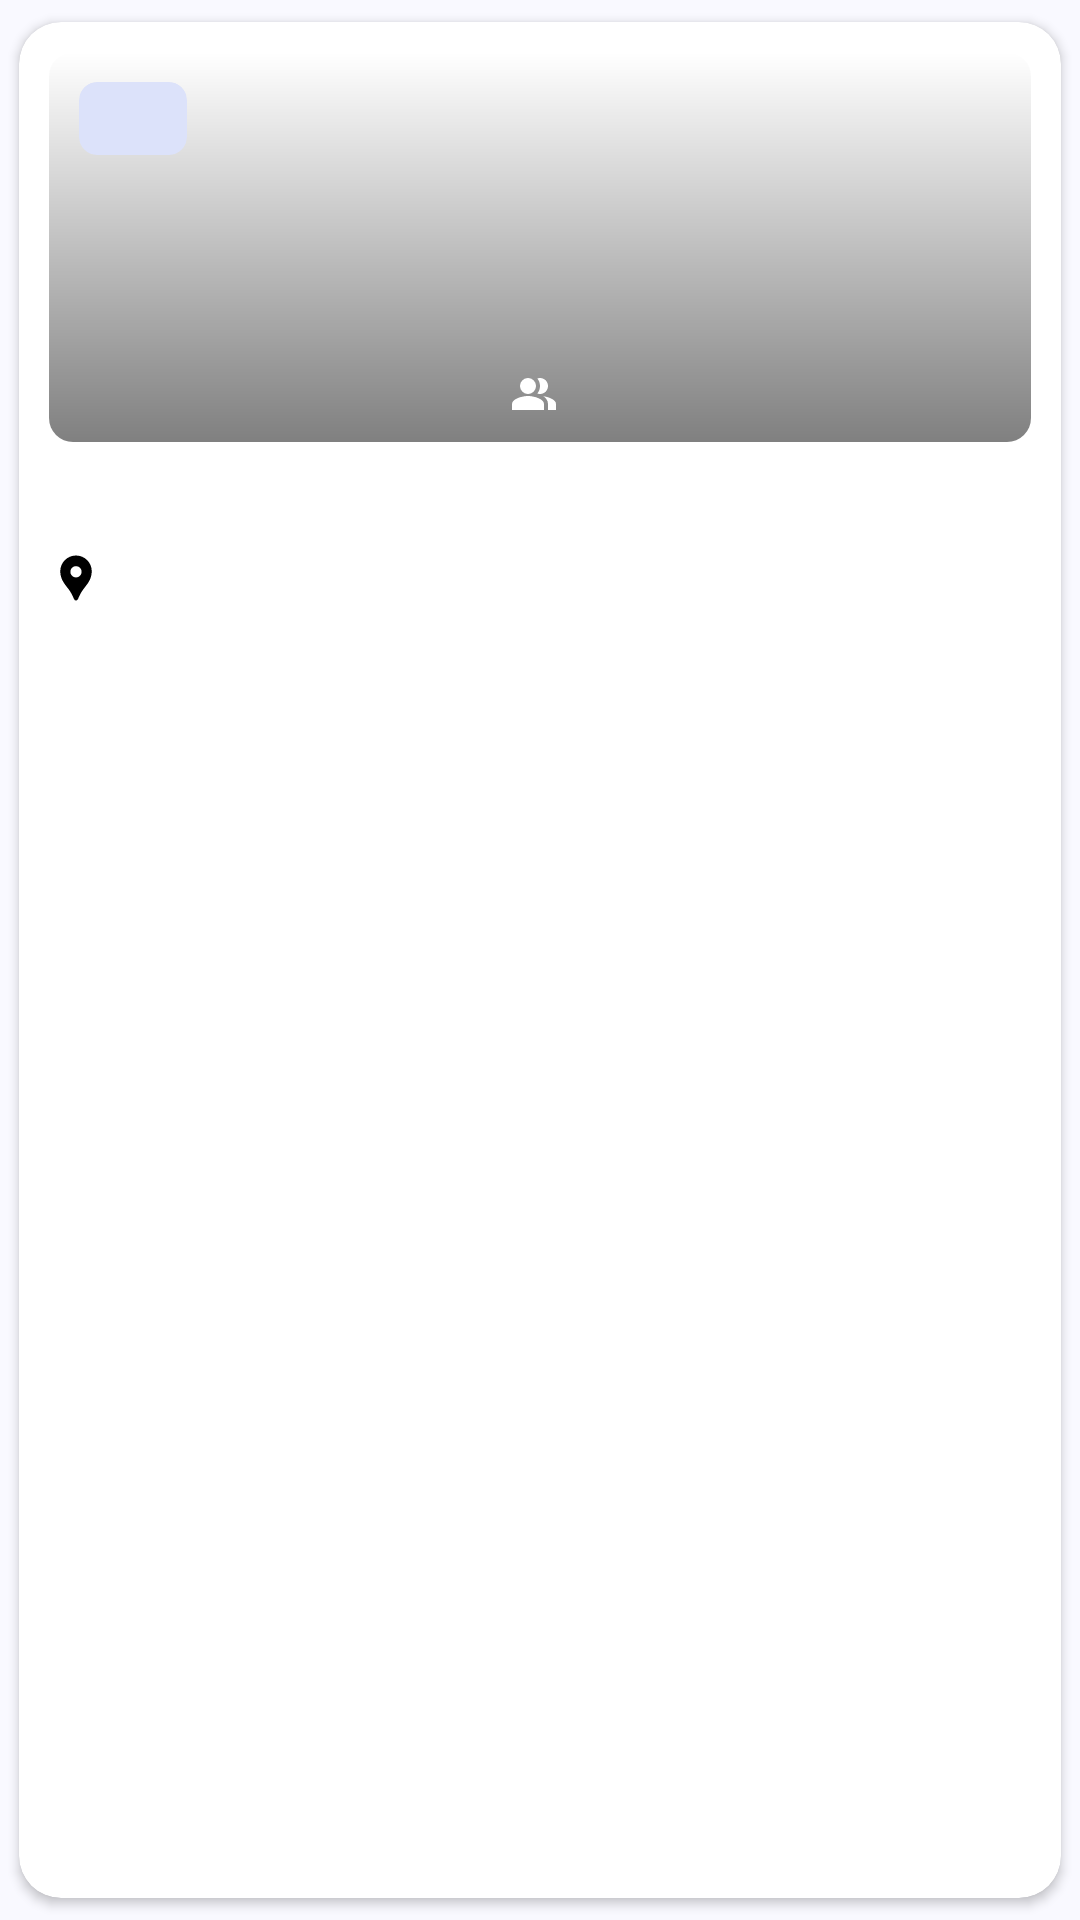

Icons on this 1080px×1920px Android screen, each with the point to tap as (x=x, y=y):
location: (x=76, y=578)
participant: (x=534, y=394)
